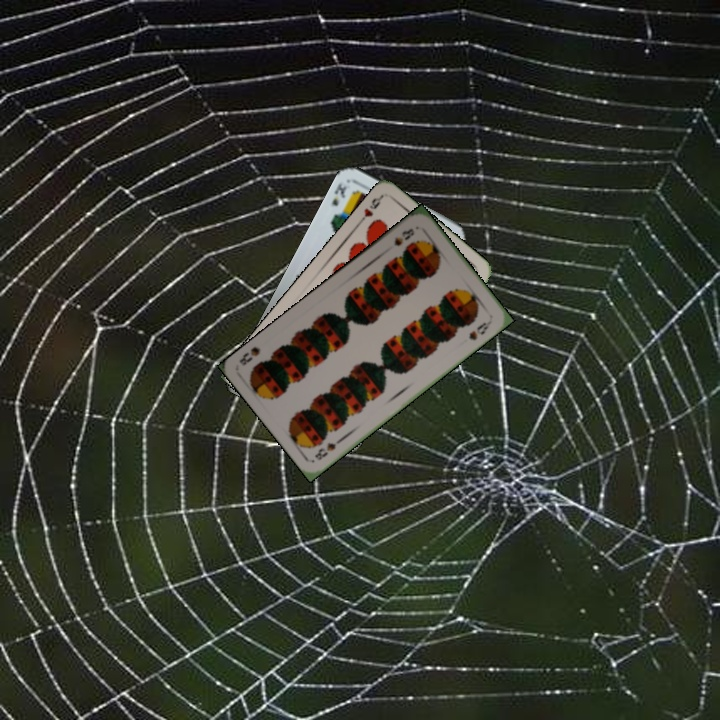EK: (328, 179, 349, 208)
H9: (354, 192, 384, 227)
S8: (311, 433, 346, 463), (390, 224, 417, 249)
